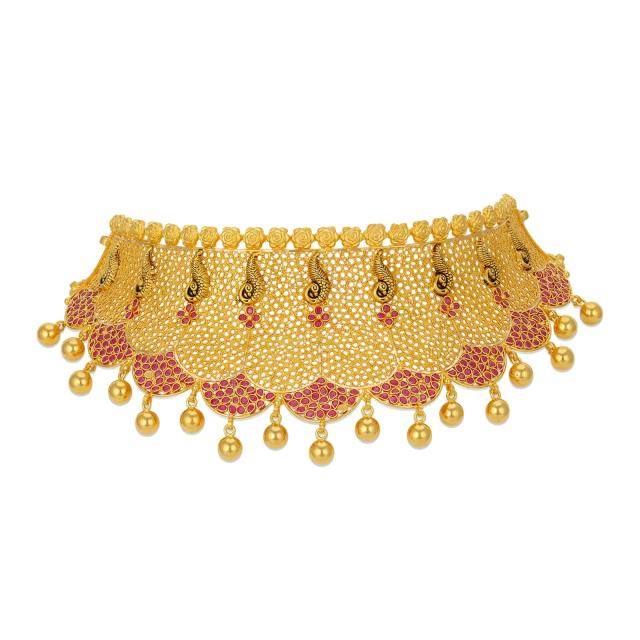missing gem: (338, 405, 347, 412), (145, 371, 153, 377)
